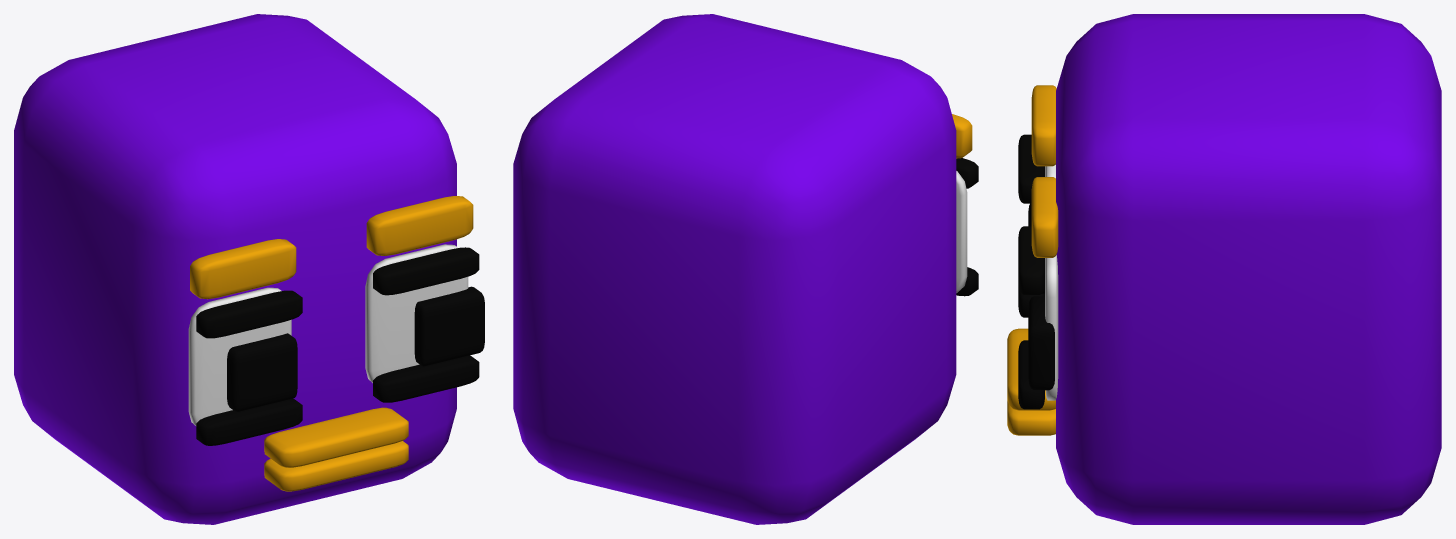
3 renders of one model, left to right at view 1: azimuth 30°, elevation 25°; view 2: azimuth 150°, elevation 25°; view 3: azimuth 270°, elevation 25°, orthographic. The views are drawn at different scales.
Parts seen in each view (by area): view 1: Head; view 2: Head; view 3: Head.
Boxes of the visible parts, bbox=[...] form: Head: bbox=[14, 14, 484, 524]; Head: bbox=[513, 14, 978, 524]; Head: bbox=[1007, 14, 1441, 524].
Bounding box in the file's own units: 0.7 × 0.8 × 0.7884.
